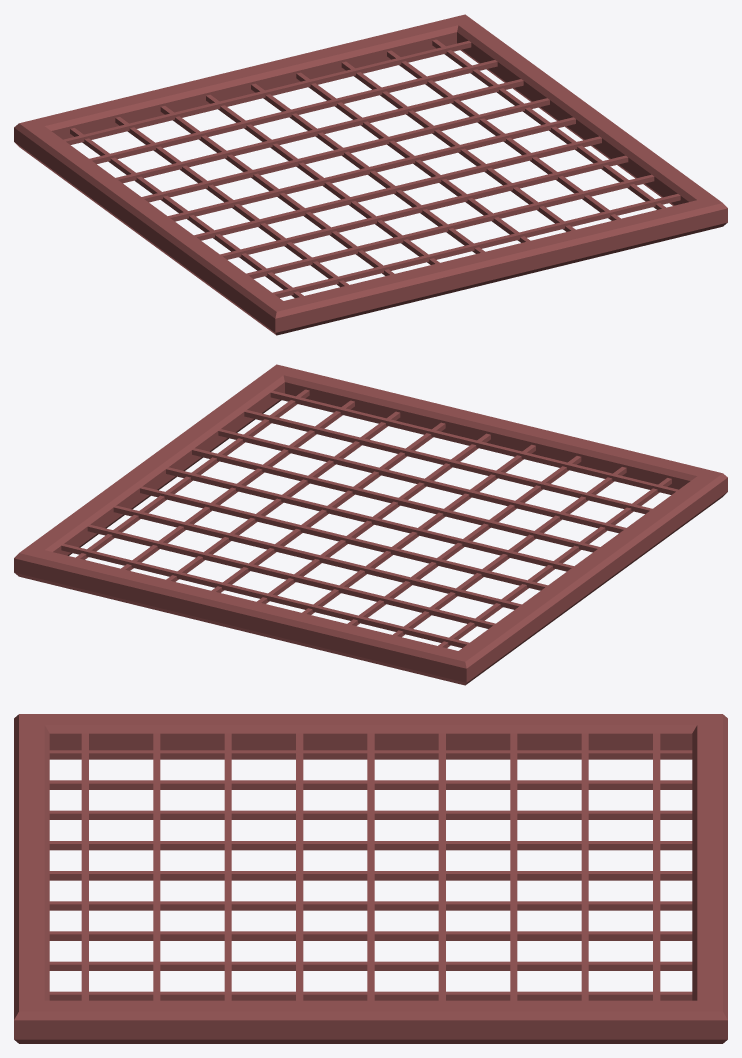
The model's file is Catwalk.fbx.
The picture shows the model from 3 angles, top to bottom: view 1: azimuth 30°, elevation 25°; view 2: azimuth 150°, elevation 25°; view 3: azimuth 270°, elevation 25°; orthographic projection. The views are drawn at different scales.
Visible parts, largest first — view 1: m; view 2: m; view 3: m.
Boxes of the visible parts, box(x1,y1,x2,y2) form: m: box(14, 14, 727, 335); m: box(14, 364, 727, 685); m: box(14, 714, 727, 1043).
Size of the model in its own units: 100 by 5 by 100.
